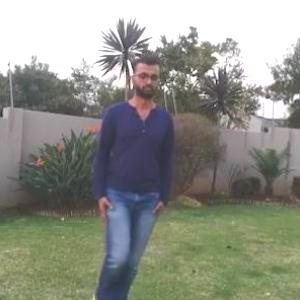follow: (100, 51, 159, 299)
